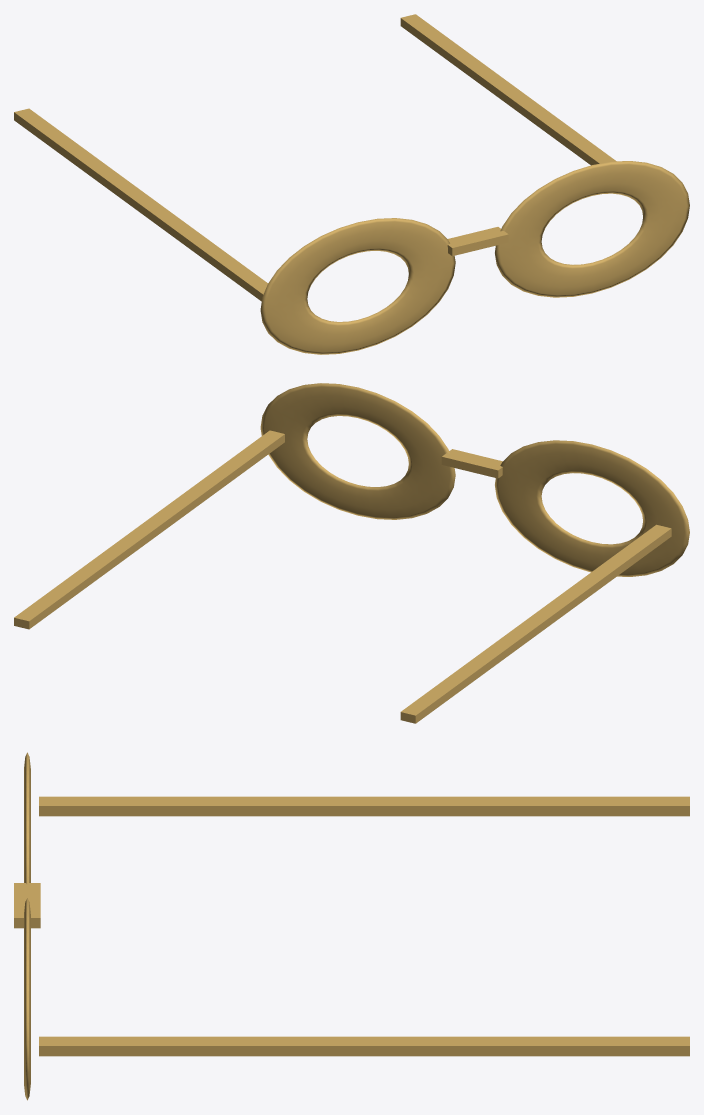
File: glasses.glb
3 renders of one model, top to bottom at view 1: azimuth 30°, elevation 25°; view 2: azimuth 150°, elevation 25°; view 3: azimuth 270°, elevation 25°, orthographic. The views are drawn at different scales.
Visible parts, largest first — view 1: glasses; view 2: glasses; view 3: glasses.
Boxes of the visible parts, bbox=[...] form: glasses: bbox=[14, 14, 689, 354]; glasses: bbox=[14, 383, 689, 723]; glasses: bbox=[14, 752, 689, 1100].
Size of the model in its own units: 14 by 4 by 15.
